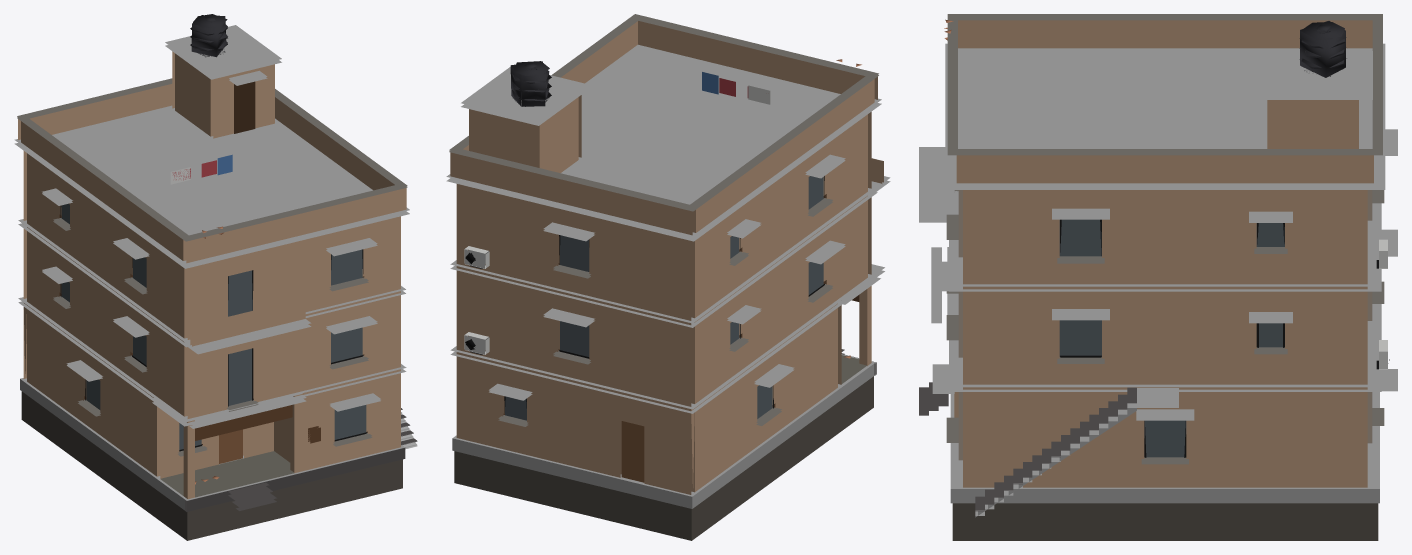
File: tn_house_9x12_3_far.glb
The picture shows the model from 3 angles, left to right: view 1: azimuth 30°, elevation 25°; view 2: azimuth 150°, elevation 25°; view 3: azimuth 270°, elevation 25°; orthographic projection. The views are drawn at different scales.
Visible parts, largest first — view 1: tn_house_9x12_3; view 2: tn_house_9x12_3; view 3: tn_house_9x12_3.
Part boxes in pixels (x1,y1,x2,y2): tn_house_9x12_3: [14, 14, 417, 540]; tn_house_9x12_3: [446, 14, 890, 540]; tn_house_9x12_3: [919, 14, 1397, 540].
Size of the model in its own units: 10.66 by 15.15 by 13.61.
